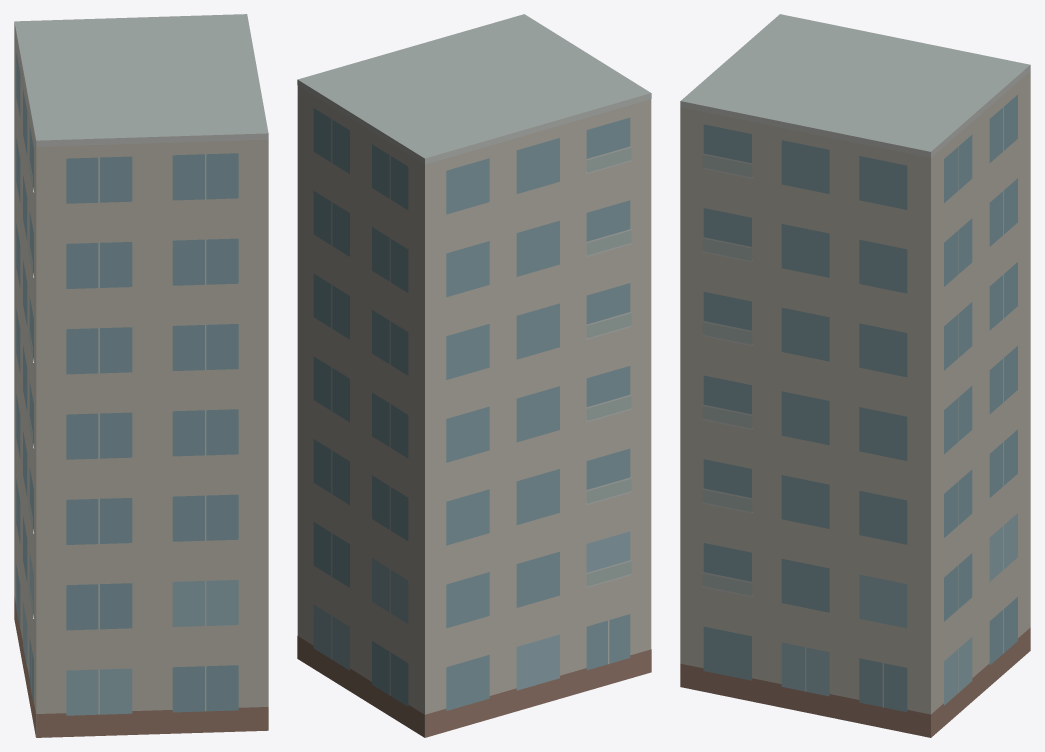
File: survey-upis-32533653.glb
3 views of the same model, side by side, from view 1: azimuth 30°, elevation 25°; view 2: azimuth 150°, elevation 25°; view 3: azimuth 270°, elevation 25° (orthographic). The views are drawn at different scales.
Parts seen in each view (by area): view 1: survey-upis-32533653.tmp; view 2: survey-upis-32533653.tmp; view 3: survey-upis-32533653.tmp.
Boxes of the visible parts, x1,y1,x2,y2 form: survey-upis-32533653.tmp: (14, 14, 268, 737); survey-upis-32533653.tmp: (297, 14, 651, 737); survey-upis-32533653.tmp: (680, 14, 1030, 737).
Bounding box in the file's own units: 11.92 × 23.6 × 12.79.
